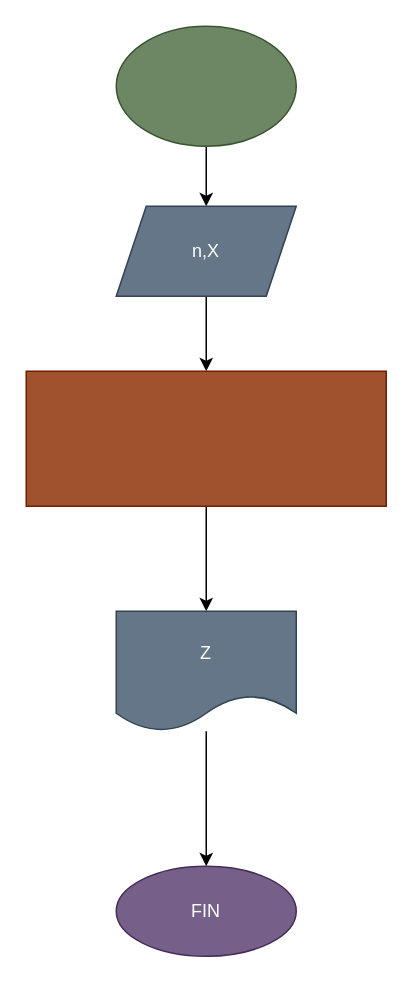
Some shapes in this 413 by 983 pixel diagram are drawn without their labels. The box of each missing label's shape, as (x1, y1, x2, y2) in pixels:
INICIO: (115, 25, 296, 146)
z = X**1/n: (25, 370, 386, 506)
